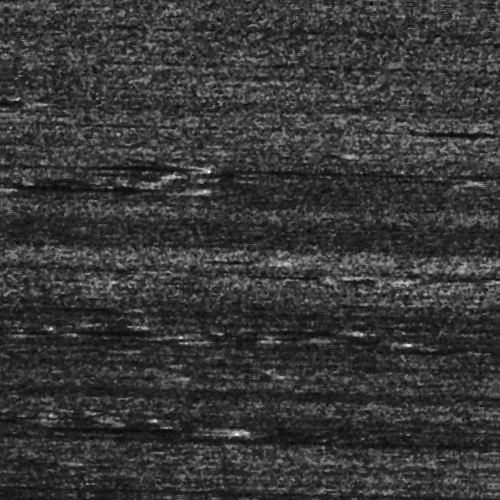object: (196, 425, 259, 436), (141, 188, 204, 195), (179, 164, 210, 171), (477, 123, 500, 128)
shadow: (94, 425, 227, 436), (54, 188, 172, 195), (77, 164, 194, 171), (433, 123, 500, 128)
